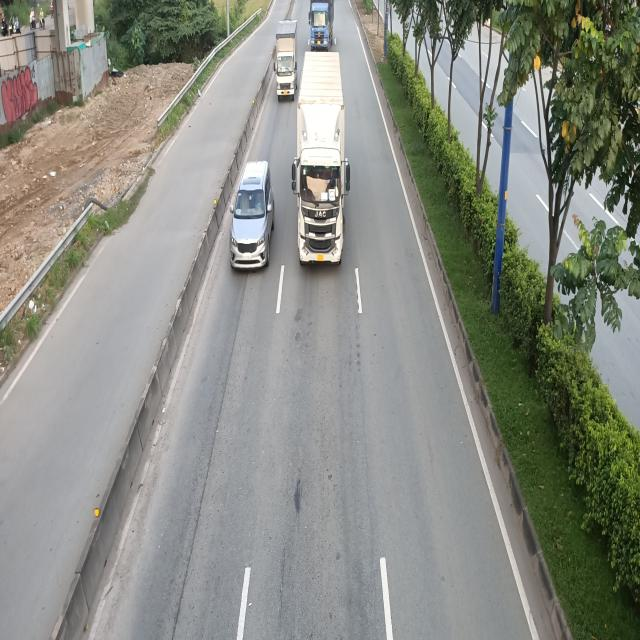car: (232, 160, 276, 274)
container: (294, 53, 353, 264)
truck: (274, 21, 299, 103), (308, 0, 334, 50)
